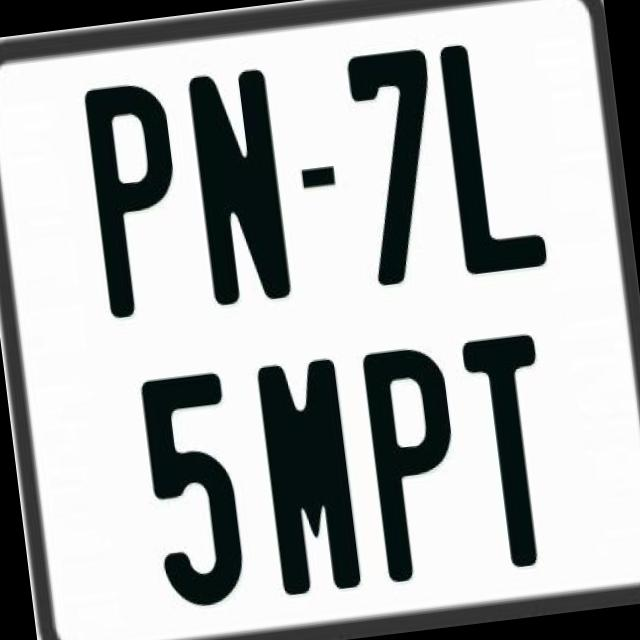5: (136, 368, 248, 614)
7: (346, 46, 454, 290)
L: (436, 38, 546, 276)
M: (255, 354, 362, 590)
N: (185, 66, 297, 308)
P: (84, 79, 195, 318), (362, 340, 468, 586)
T: (460, 334, 563, 574)
